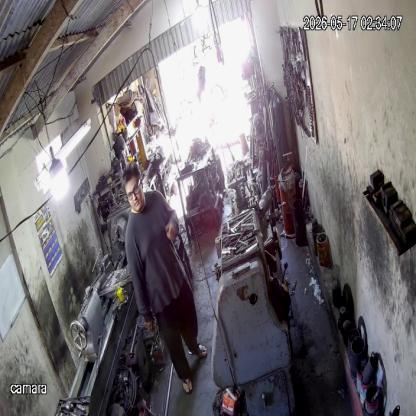lentes: (124, 182, 142, 203)
